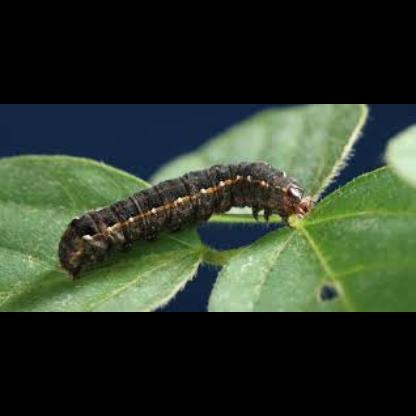oruga: (49, 154, 309, 266)
